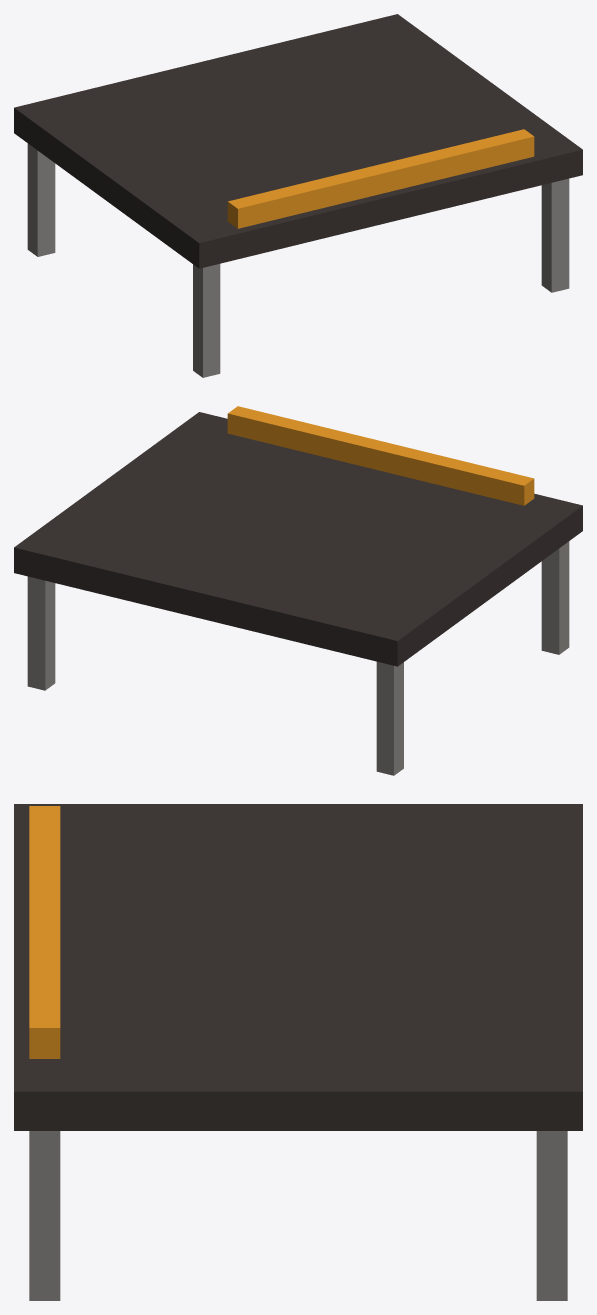
The model's file is vymenik-hak.glb.
The picture shows the model from 3 angles, top to bottom: view 1: azimuth 30°, elevation 25°; view 2: azimuth 150°, elevation 25°; view 3: azimuth 270°, elevation 25°; orthographic projection. The views are drawn at different scales.
Visible parts, largest first — view 1: vymenik-hak; view 2: vymenik-hak; view 3: vymenik-hak.
Part boxes in pixels (left/top/right/bottom): vymenik-hak: left=14, top=14, right=582, bottom=377; vymenik-hak: left=14, top=406, right=582, bottom=775; vymenik-hak: left=14, top=804, right=582, bottom=1300.
Size of the model in its own units: 2.2 by 0.88 by 1.84.
